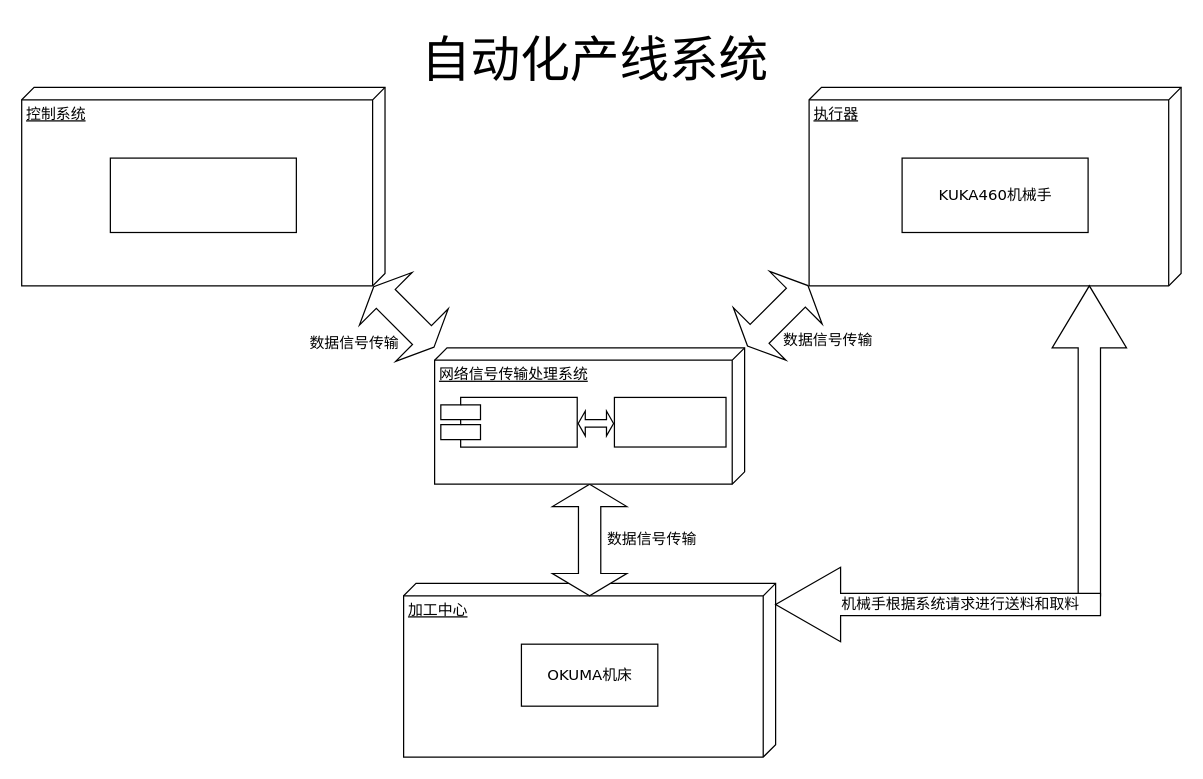
Image size: 1203x779. Some labels were removed from this diagram. Here are the shapes that lost their labels. From the top down, the centre of each, then its label:
At [202,194]: "监控上位机".
At [508,421]: "网络模块".
At [669,421]: "西门子1500".
